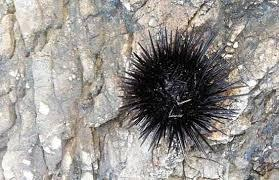urchin: (117, 25, 244, 155)
